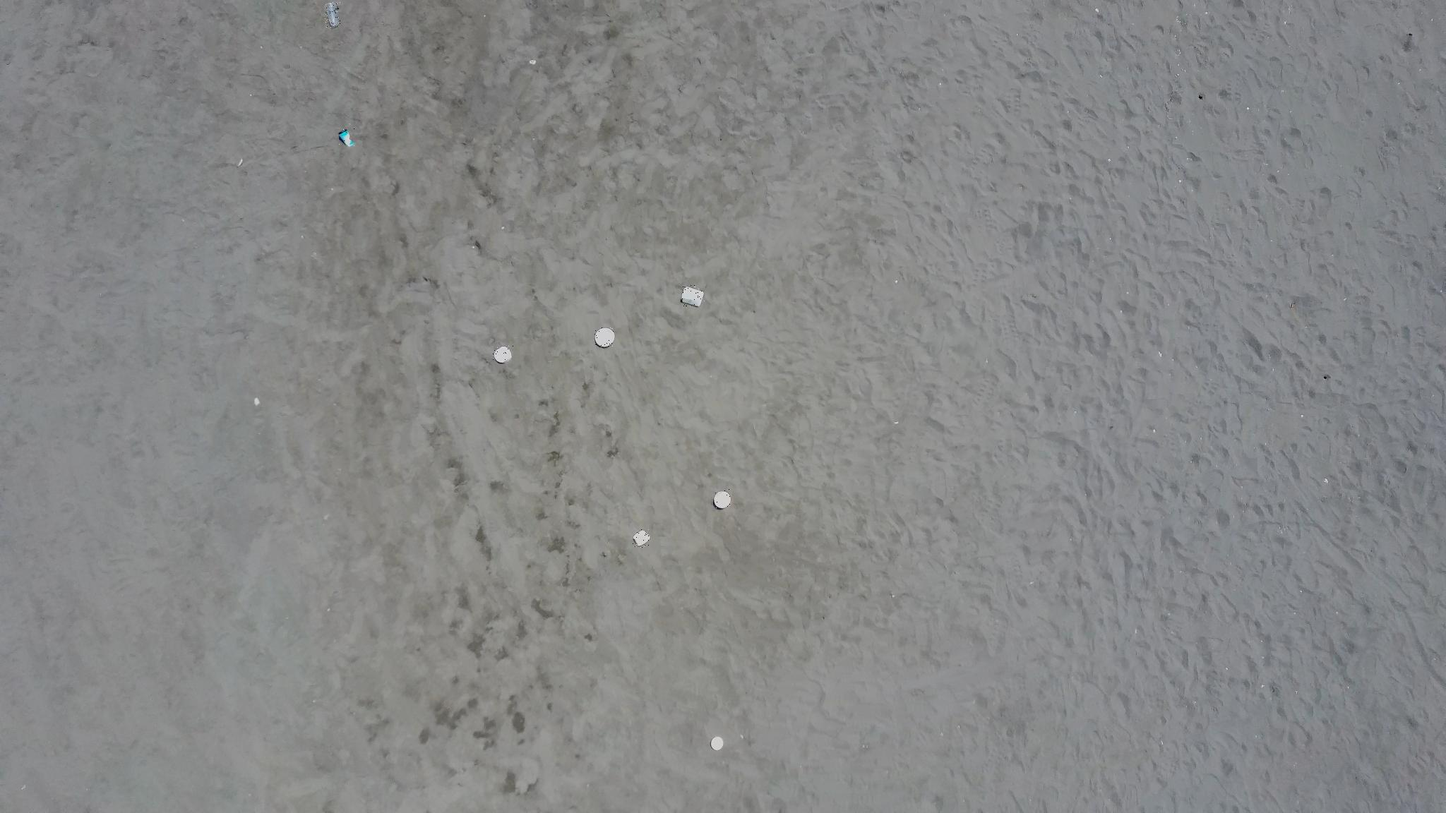Garbage: (681, 286, 703, 306), (594, 328, 614, 347), (327, 1, 339, 27), (712, 490, 729, 508), (492, 347, 511, 363), (633, 530, 650, 546), (338, 128, 352, 147), (710, 735, 724, 749), (237, 157, 243, 166), (253, 397, 259, 404), (528, 59, 536, 64)
